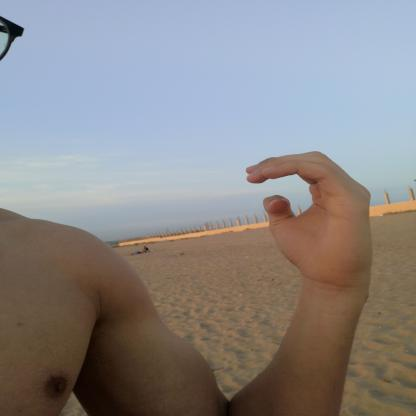JEEM: (224, 138, 396, 299)
